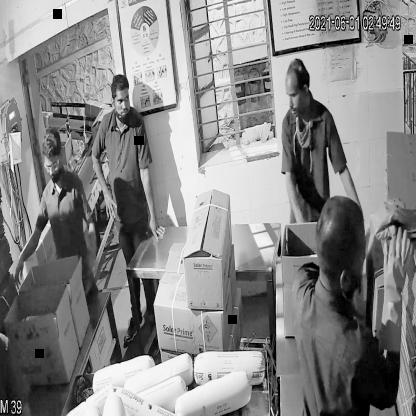goggles: (42, 154, 64, 179)
no_goggles: (278, 80, 314, 107), (110, 89, 134, 114)
